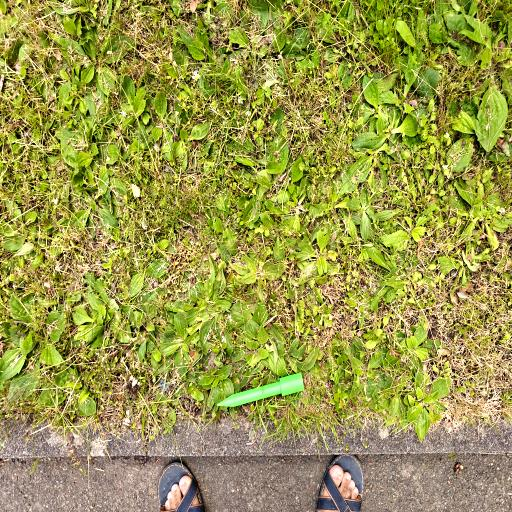Probe-Detection: (217, 373, 304, 406)
